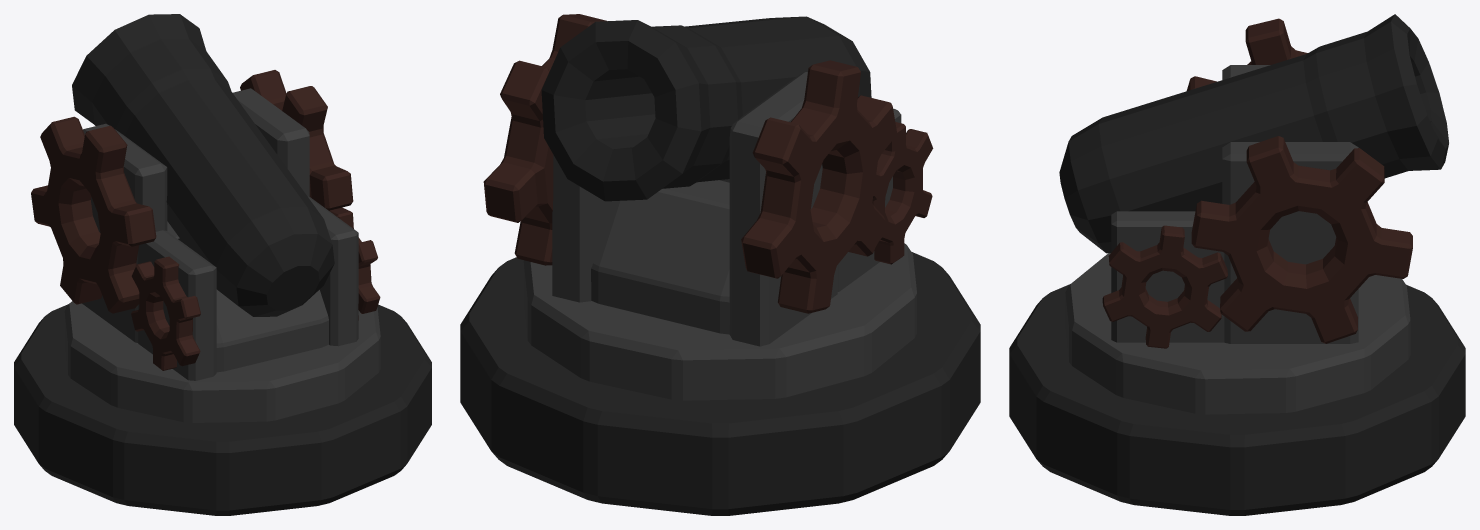
3 renders of one model, left to right at view 1: azimuth 30°, elevation 25°; view 2: azimuth 150°, elevation 25°; view 3: azimuth 270°, elevation 25°, orthographic. The views are drawn at different scales.
Visible parts, largest first — view 1: Rotatable_parts, Solid_platform, big_wheel_l, small_wheel_l, big_wheel_r, small_wheel_r; view 2: Rotatable_parts, Solid_platform, big_wheel_l, big_wheel_r, small_wheel_l; view 3: Rotatable_parts, Solid_platform, big_wheel_r, small_wheel_r, big_wheel_l.
Boxes of the visible parts, x1=… form: Rotatable_parts: x1=64, y1=14, x2=380, y2=422; Solid_platform: x1=14, y1=304, x2=431, y2=515; big_wheel_l: x1=31, y1=116, x2=156, y2=313; small_wheel_l: x1=131, y1=256, x2=200, y2=370; big_wheel_r: x1=240, y1=70, x2=353, y2=210; small_wheel_r: x1=329, y1=207, x2=380, y2=320; Rotatable_parts: x1=523, y1=16, x2=916, y2=400; Solid_platform: x1=460, y1=252, x2=980, y2=515; big_wheel_l: x1=741, y1=60, x2=897, y2=313; big_wheel_r: x1=483, y1=14, x2=607, y2=265; small_wheel_l: x1=872, y1=122, x2=933, y2=264; Rotatable_parts: x1=1059, y1=14, x2=1448, y2=414; Solid_platform: x1=1009, y1=284, x2=1465, y2=515; big_wheel_r: x1=1191, y1=136, x2=1412, y2=343; small_wheel_r: x1=1102, y1=225, x2=1227, y2=348; big_wheel_l: x1=1186, y1=18, x2=1307, y2=90.
Bounding box in the file's own units: 320 × 310 × 320.
